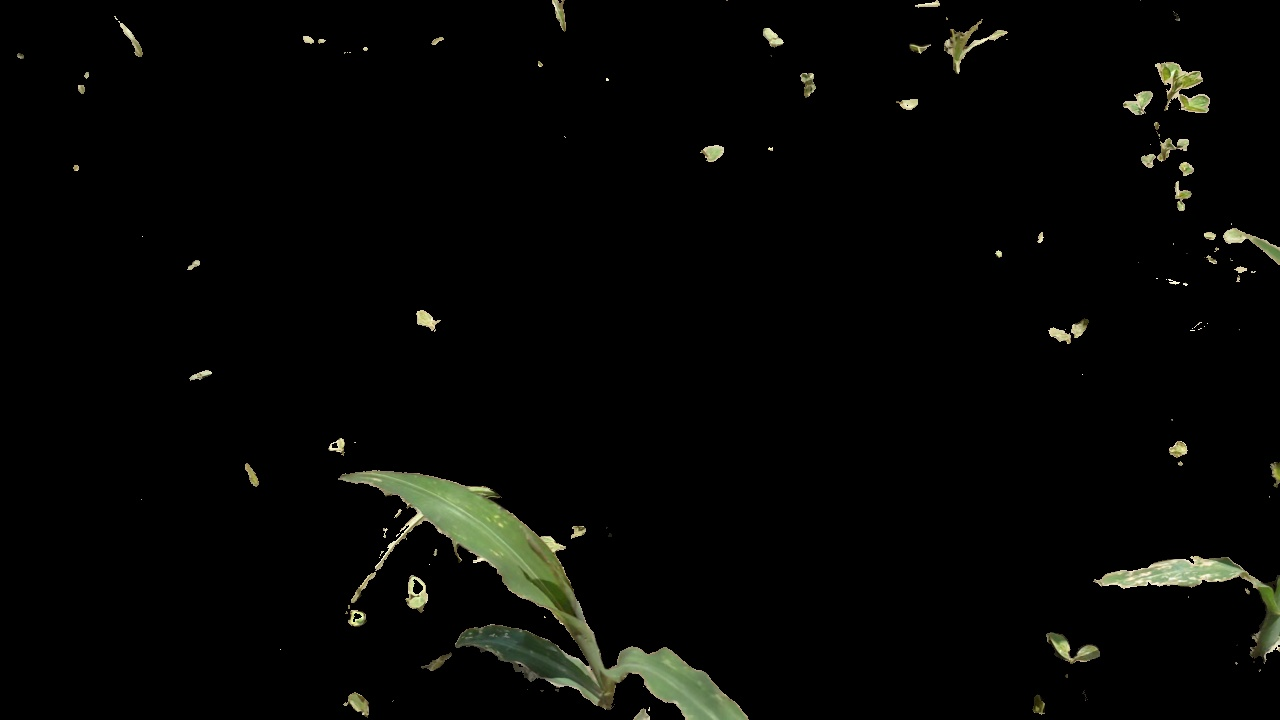crop: (343, 461, 763, 720), (1086, 522, 1280, 662)
weed: (903, 7, 1026, 78), (1119, 58, 1215, 124), (1136, 131, 1211, 211), (1039, 307, 1103, 357), (1042, 619, 1103, 668), (329, 679, 389, 720), (393, 568, 431, 618)
